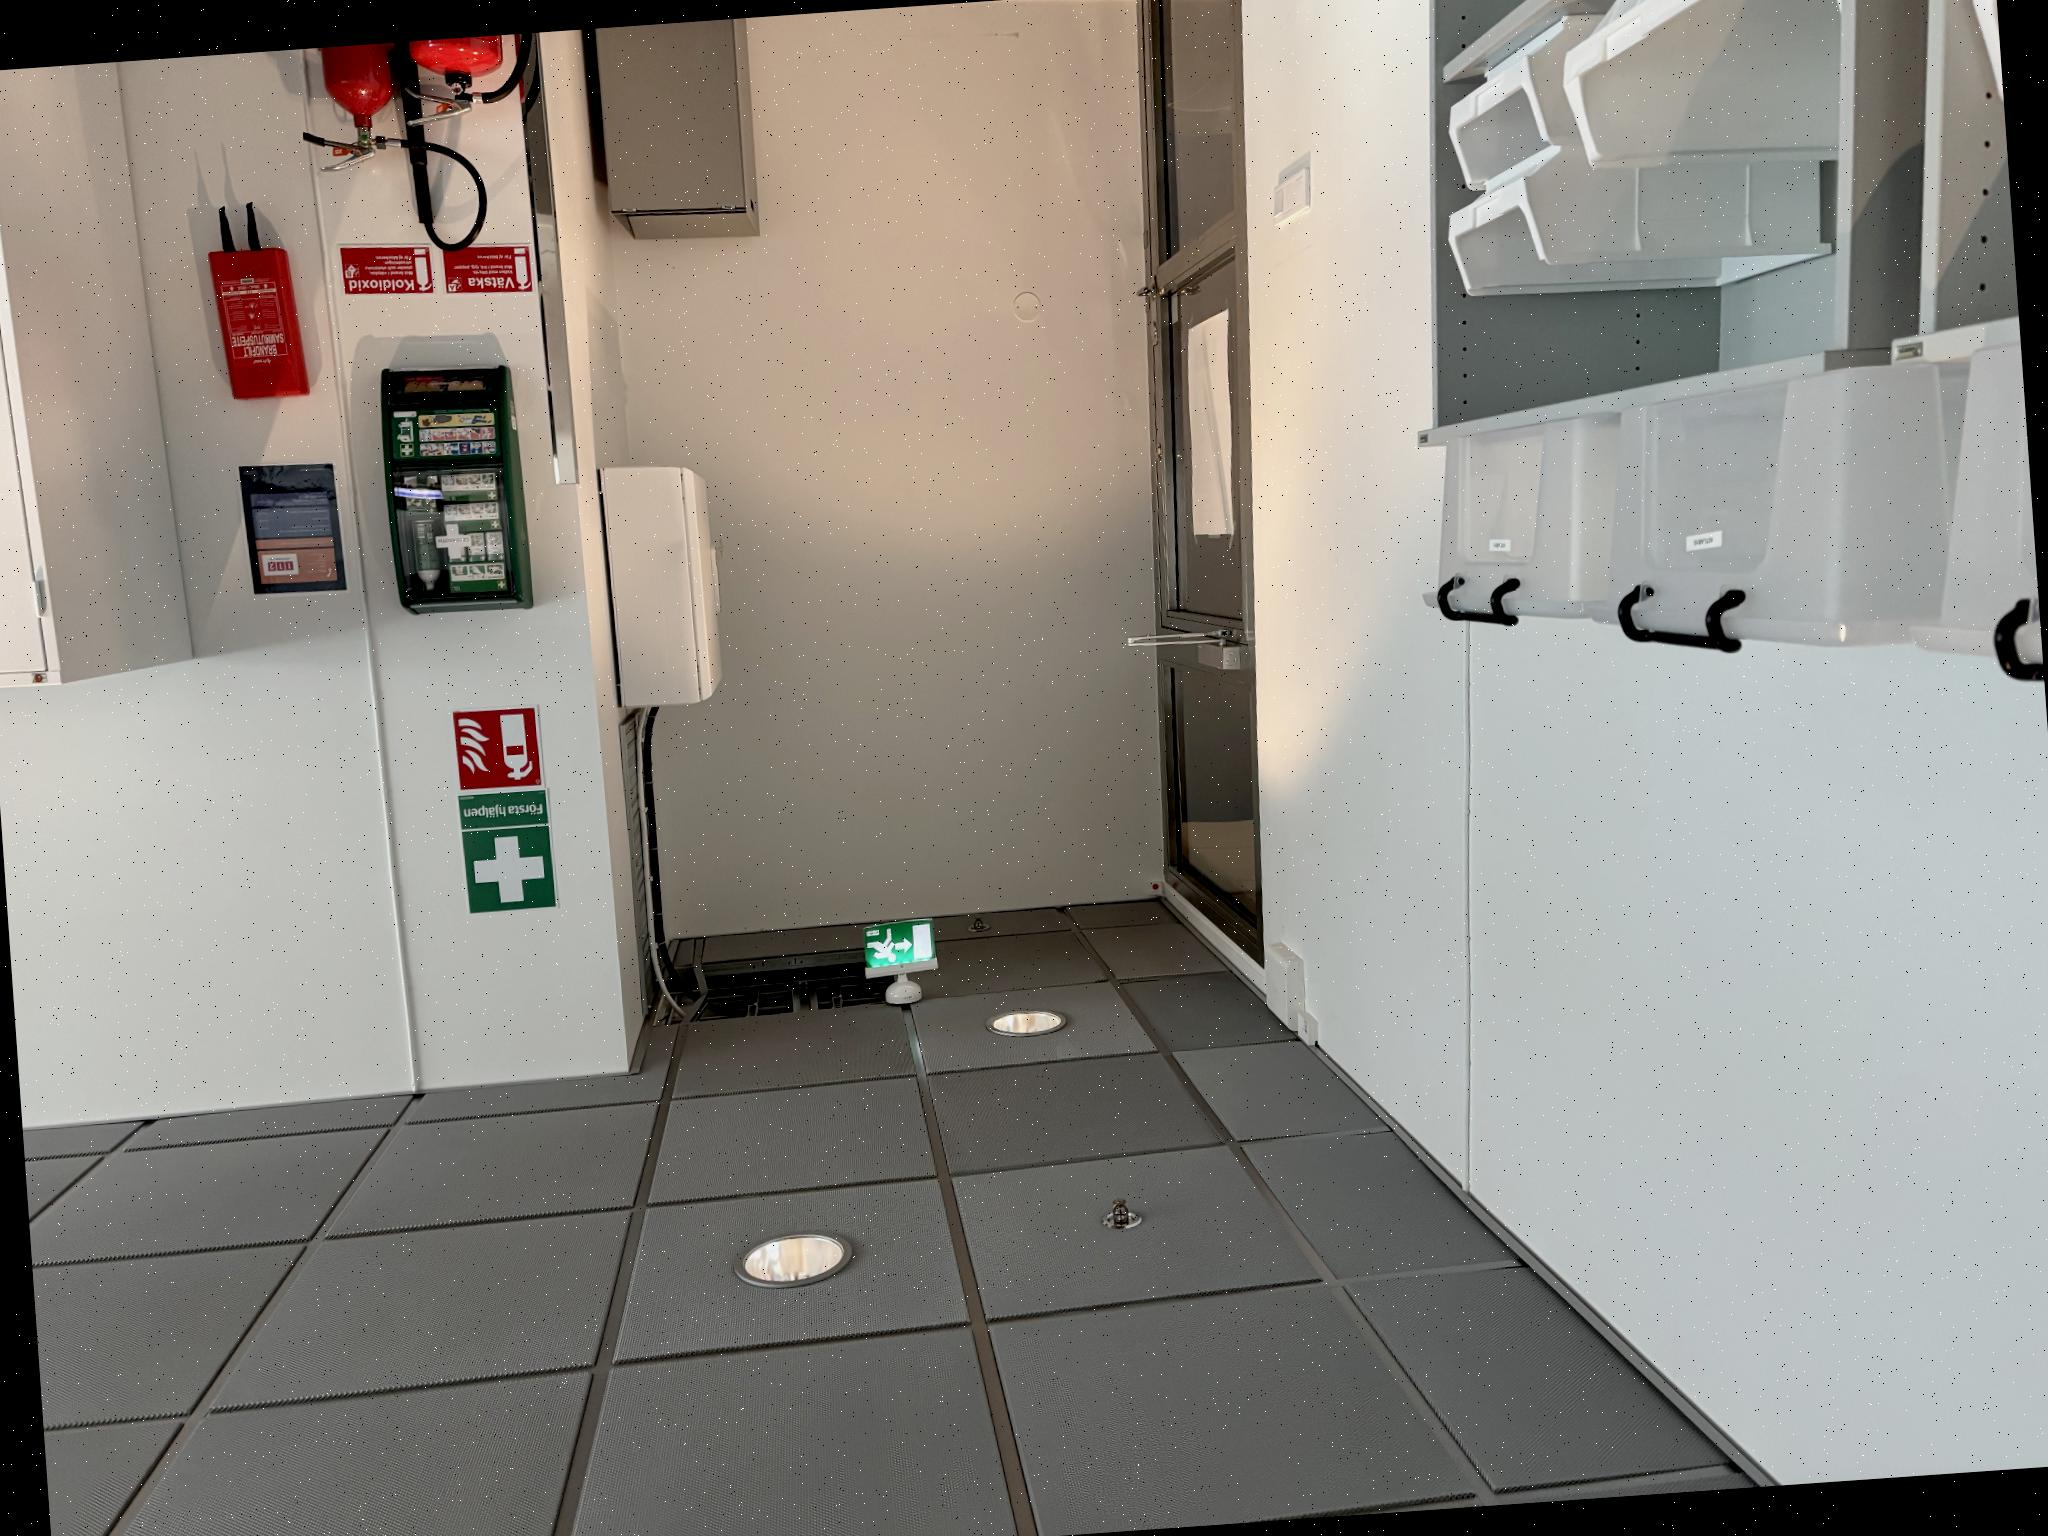exit_sign: (864, 918, 932, 965)
